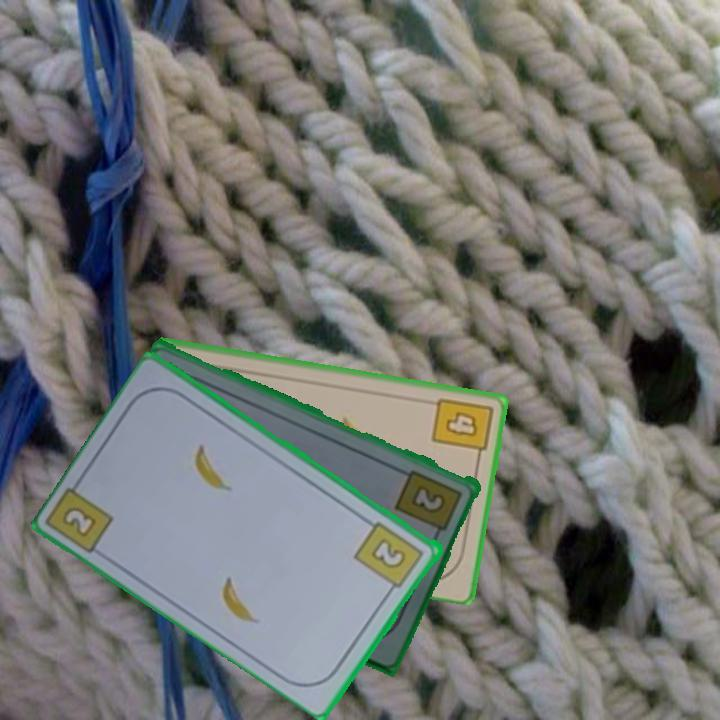2b: (351, 518, 427, 597), (392, 466, 466, 541), (62, 506, 97, 537)
4b: (428, 393, 496, 464)
